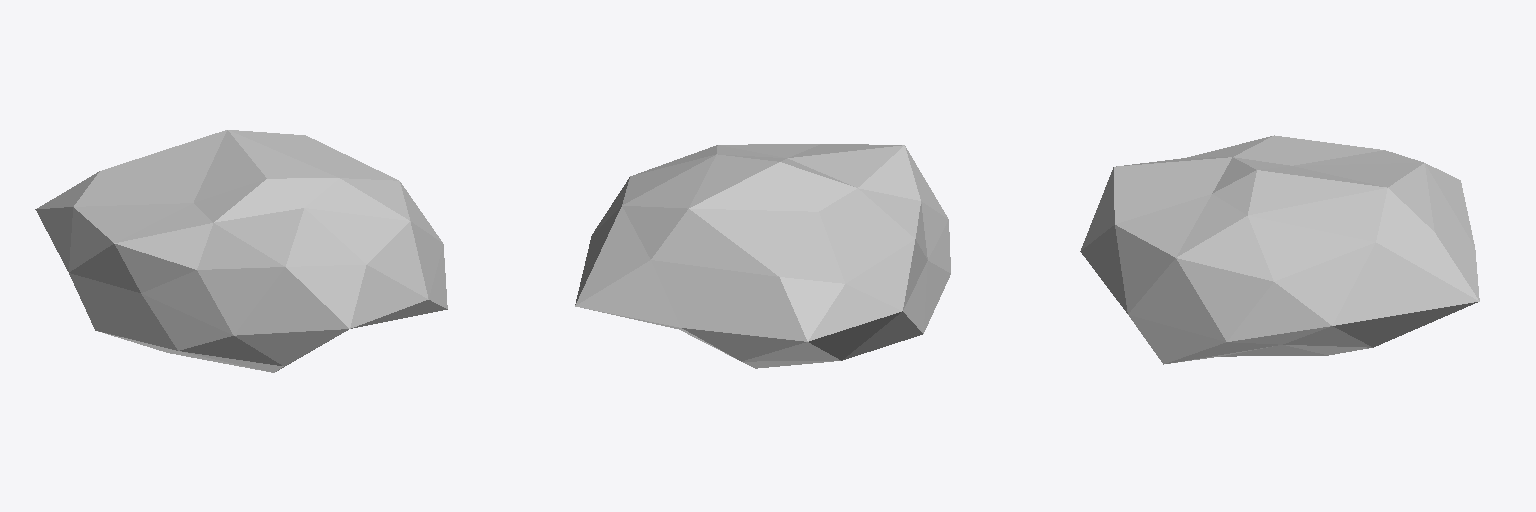
File: tree_4_top.obj
The picture shows the model from 3 angles: view 1: azimuth 30°, elevation 25°; view 2: azimuth 150°, elevation 25°; view 3: azimuth 270°, elevation 25°; orthographic projection.
Parts seen in each view (by area): view 1: Icosphere; view 2: Icosphere; view 3: Icosphere.
Boxes of the visible parts, box(x1,y1,x2,y2) form: Icosphere: box(35, 130, 447, 372); Icosphere: box(575, 144, 950, 368); Icosphere: box(1080, 135, 1479, 364).
Size of the model in its own units: 5.07 by 2.58 by 5.44.